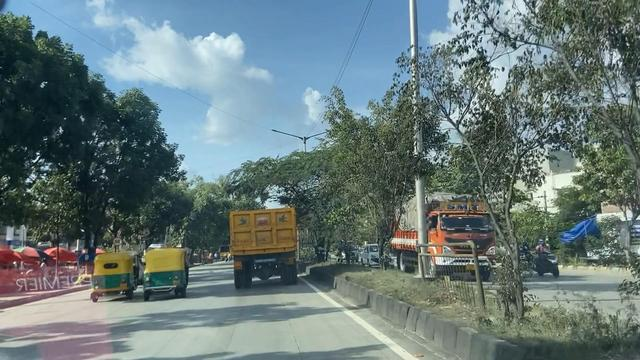HMV: (230, 211, 295, 280)
LMV: (133, 250, 189, 295), (94, 250, 140, 294)
